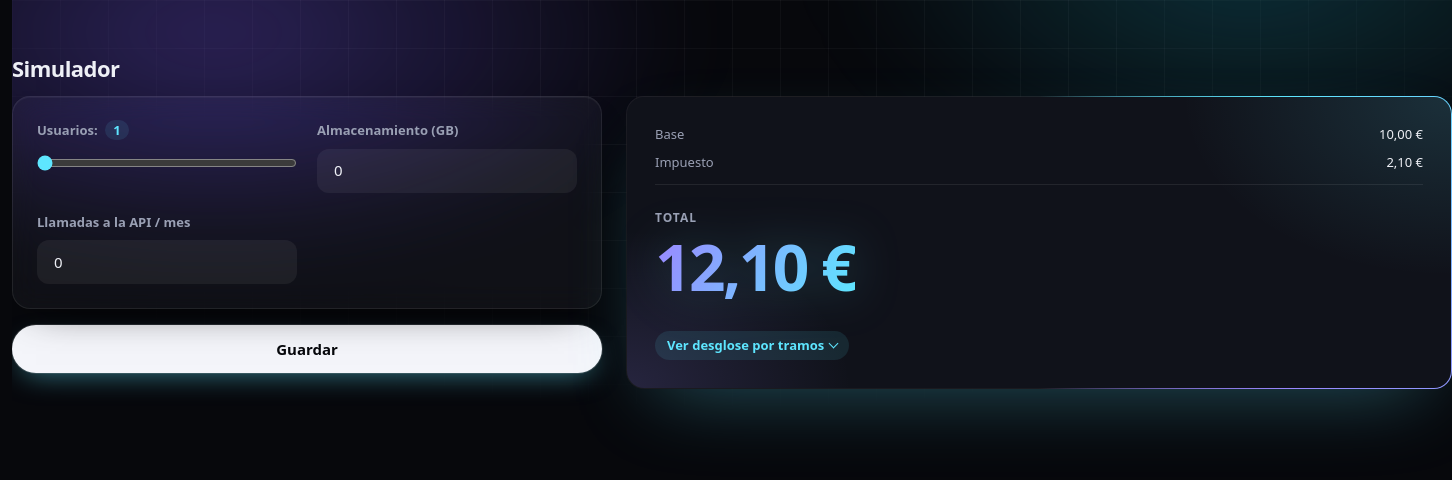
Test case: Simulator › un valor no válido (1.5) marca el campo, no lanza preview y mantiene la proyección
Replace the text in the number field labelled "Almacenamiento (GB)" with "1.5": (447, 171) [317,149,577,193]
Wait 250 ms
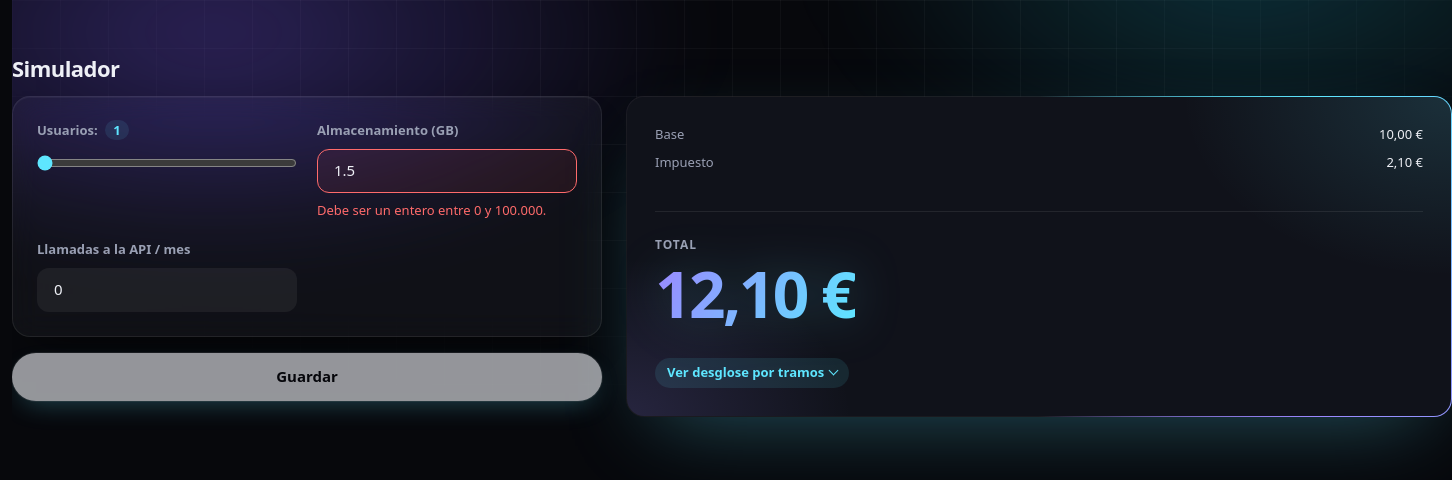
Check: the text "Debe ser un entero entre 0 y 100.000." is shown, box [317,201,577,220]
